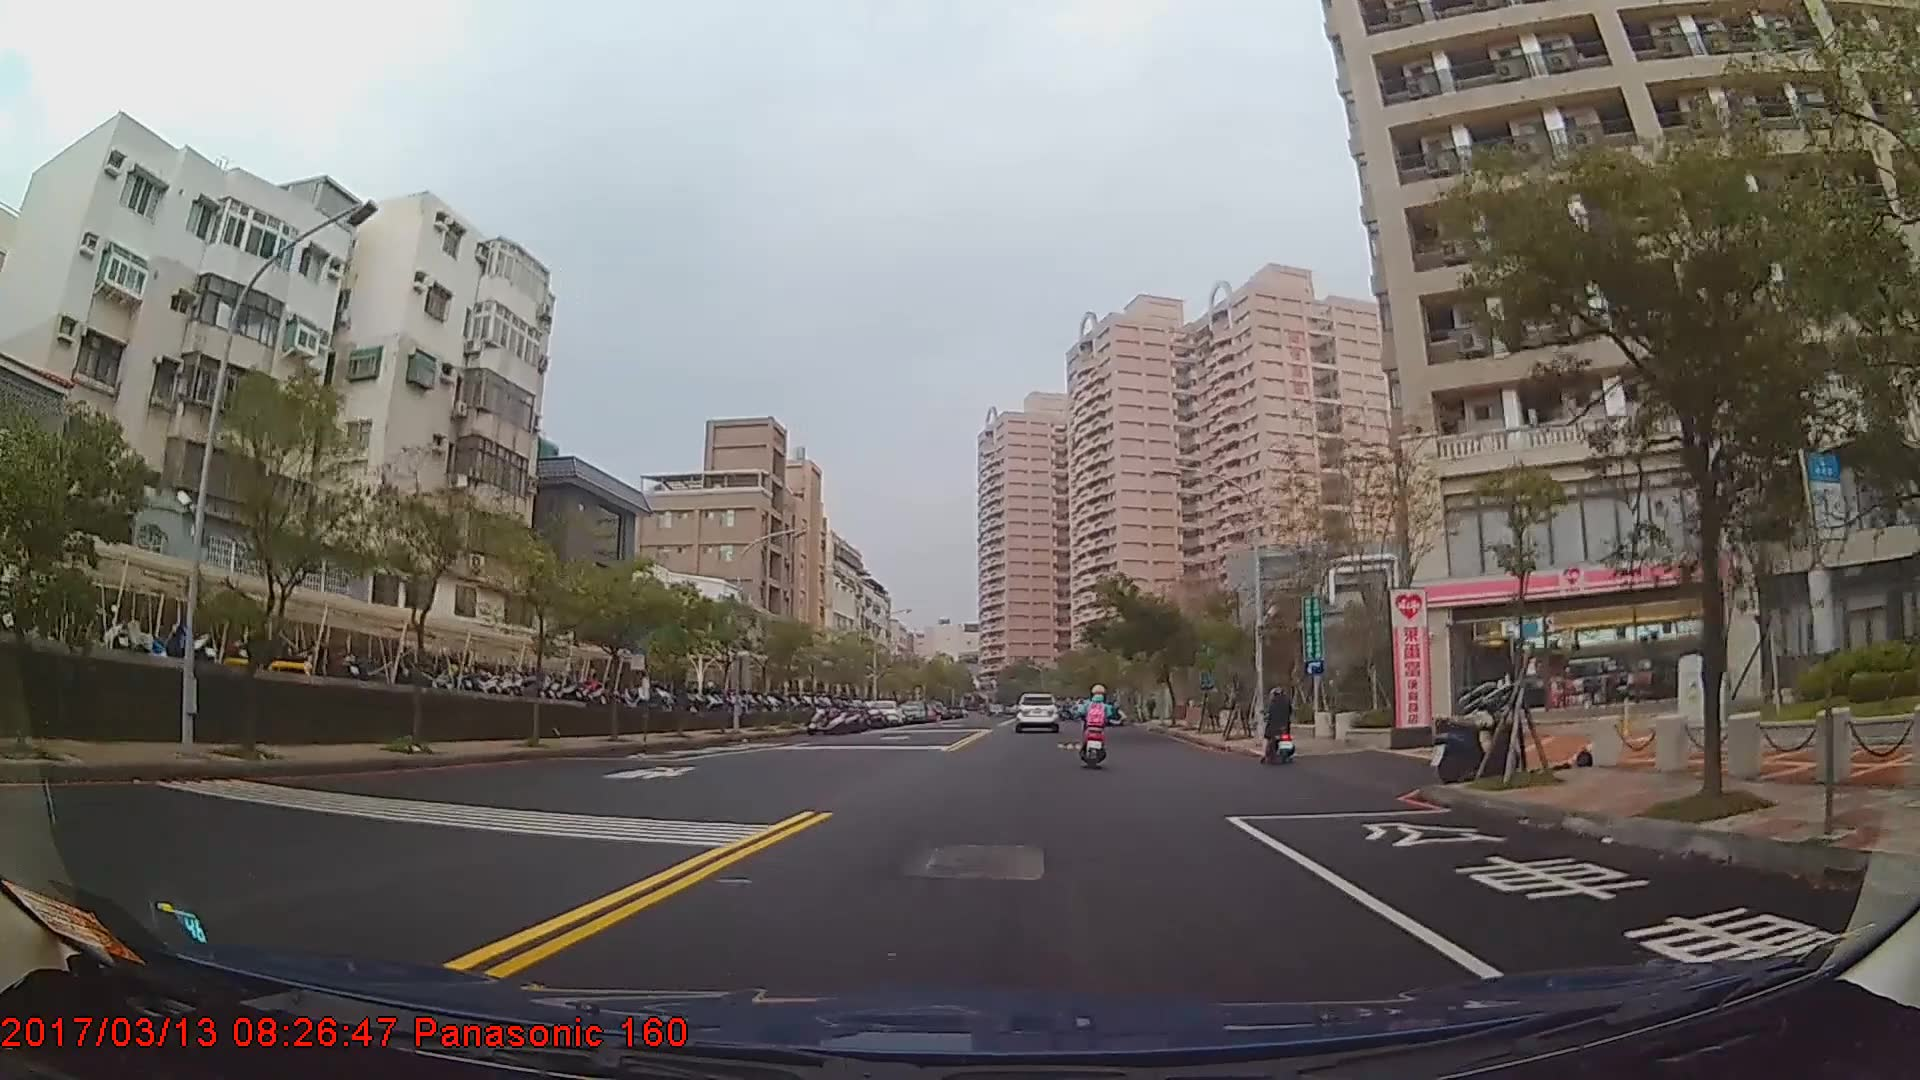rider: (1076, 682, 1115, 766), (1260, 687, 1297, 764)
vehicle: (1011, 690, 1062, 732), (865, 696, 900, 723)
